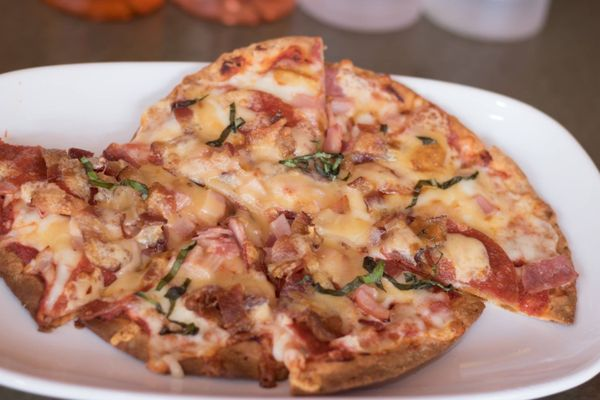pizza: (420, 0, 551, 44)
